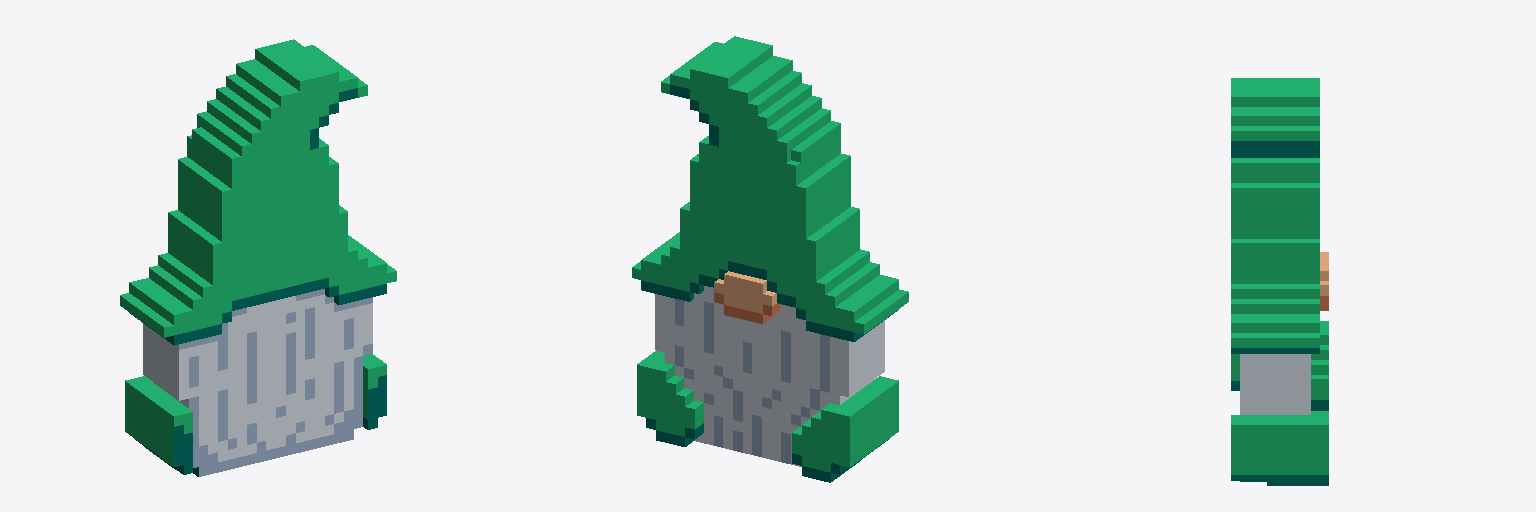
The model's file is Gnome.obj.
3 views of the same model, side by side, from view 1: azimuth 30°, elevation 25°; view 2: azimuth 150°, elevation 25°; view 3: azimuth 270°, elevation 25° (orthographic).
Bounding box in the file's own units: 24 × 37 × 8.8.